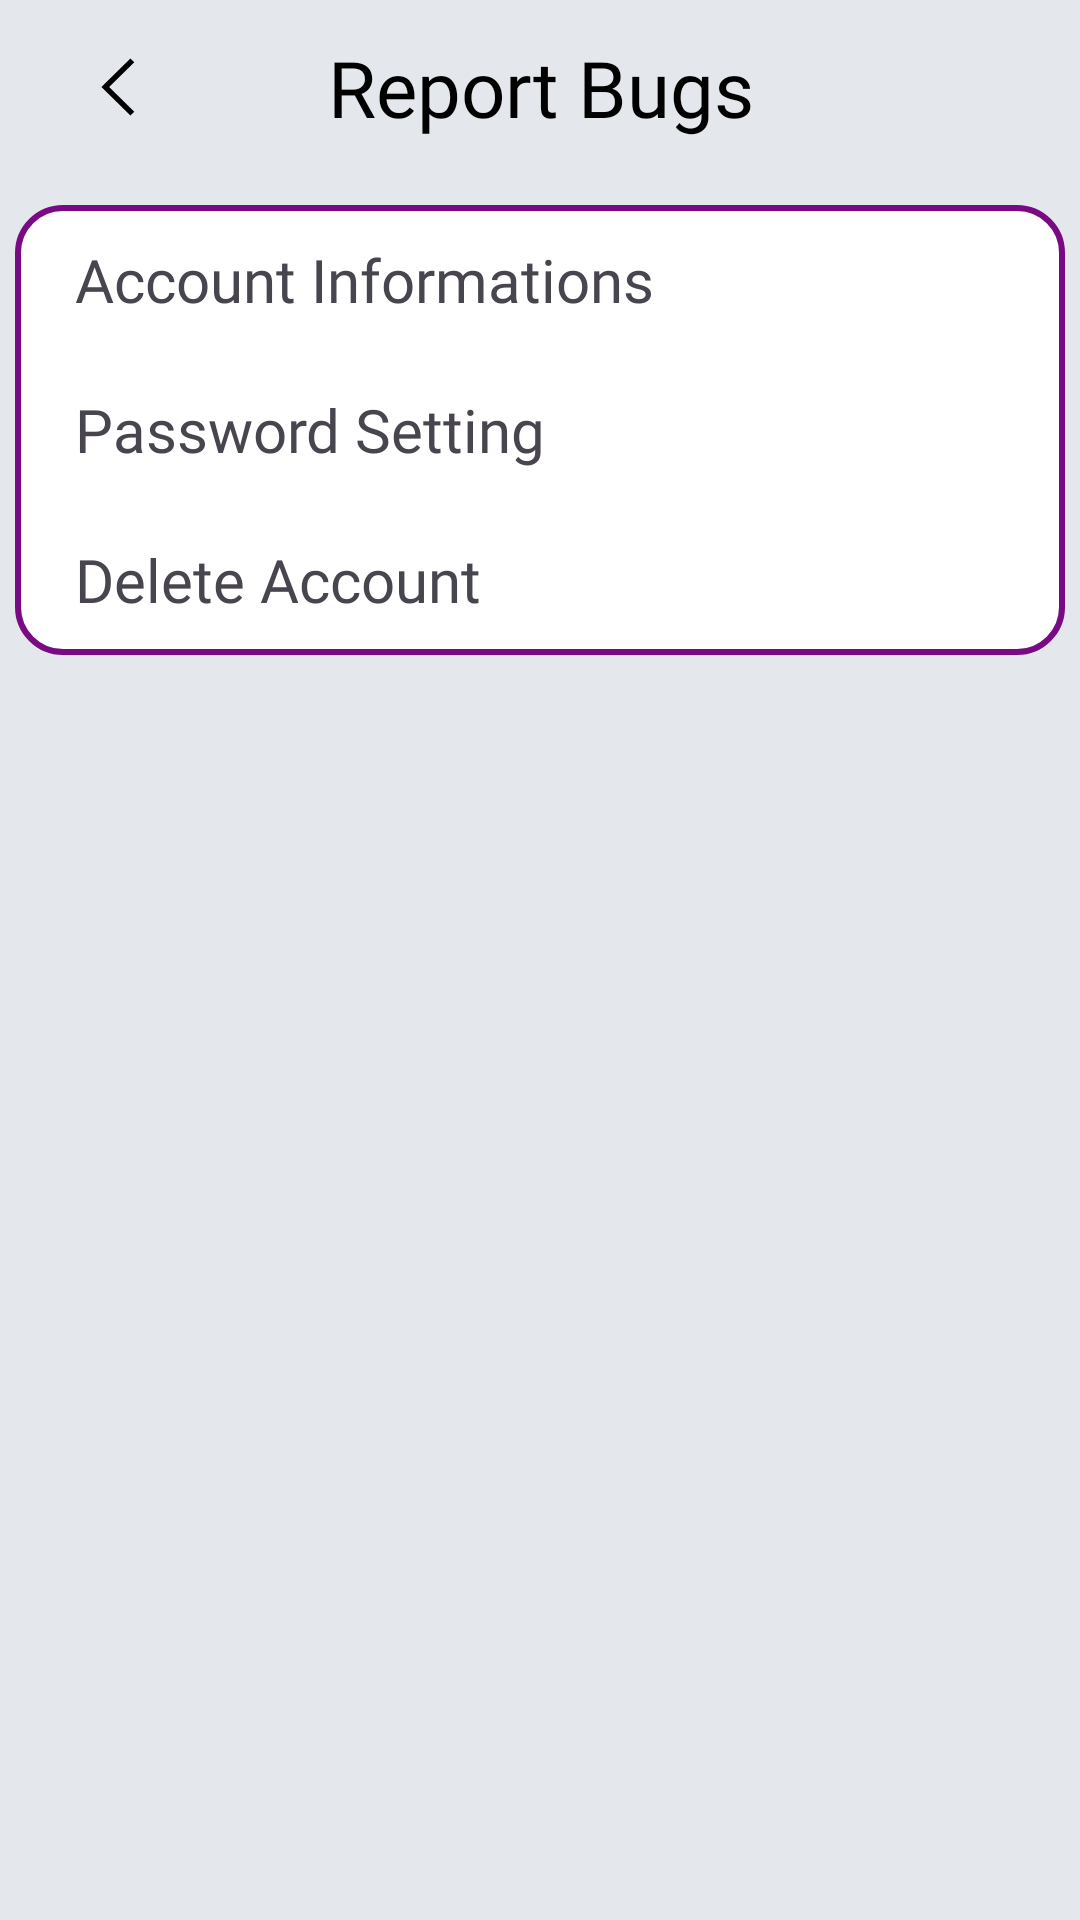

Icons on this 1080px×1920px Android screen, each with the point to tap as (x,y):
back: (117,87)
